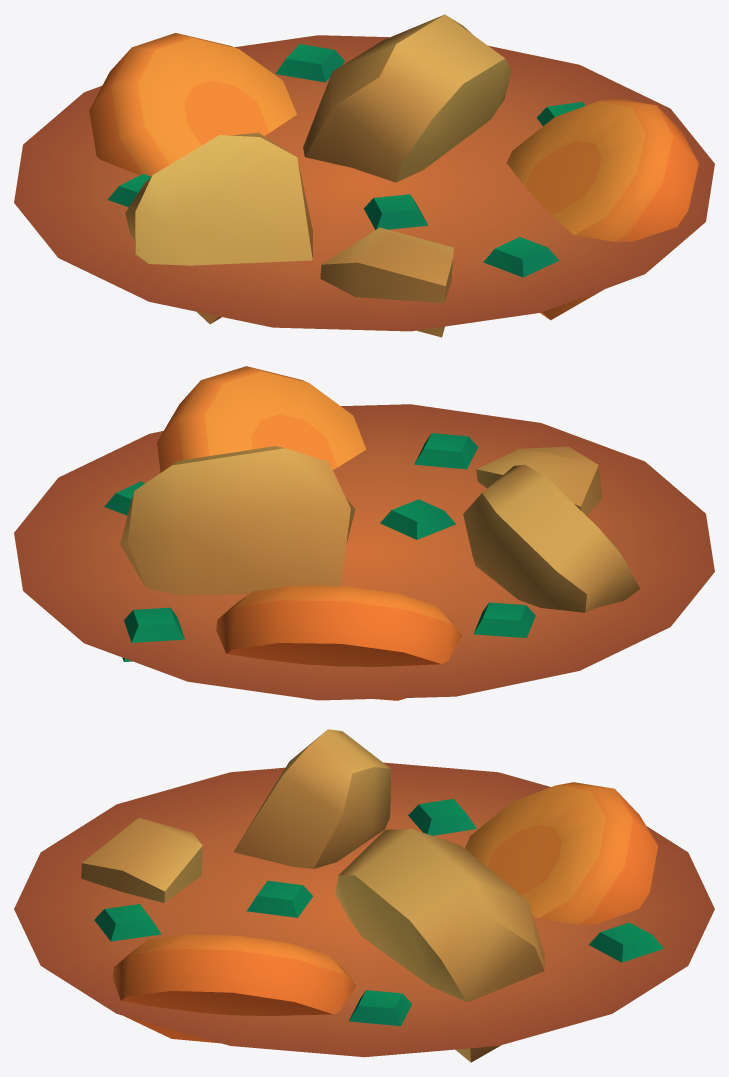
The model's file is stew_bowl.obj.
3 views of the same model, one above another, from view 1: azimuth 30°, elevation 25°; view 2: azimuth 150°, elevation 25°; view 3: azimuth 270°, elevation 25° (orthographic).
Visible parts, largest first — view 1: stew_bowl_Sphere.002; view 2: stew_bowl_Sphere.002; view 3: stew_bowl_Sphere.002.
Boxes of the visible parts, x1,y1,x2,y2 form: stew_bowl_Sphere.002: (14,14,714,337); stew_bowl_Sphere.002: (14,366,714,700); stew_bowl_Sphere.002: (14,729,714,1062).
Size of the model in its own units: 0.7854 by 0.25 by 0.7854.
1 material, 1 textured.
